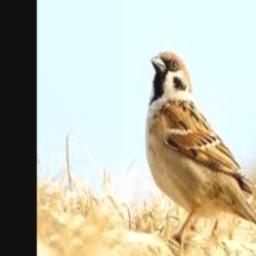Sparrow: (146, 52, 256, 244)
